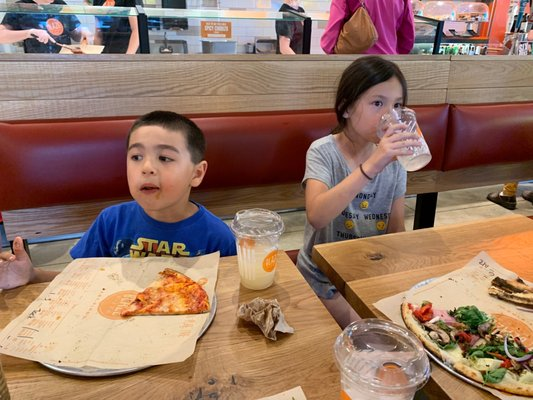pizza: (333, 319, 431, 400), (232, 208, 285, 290)
